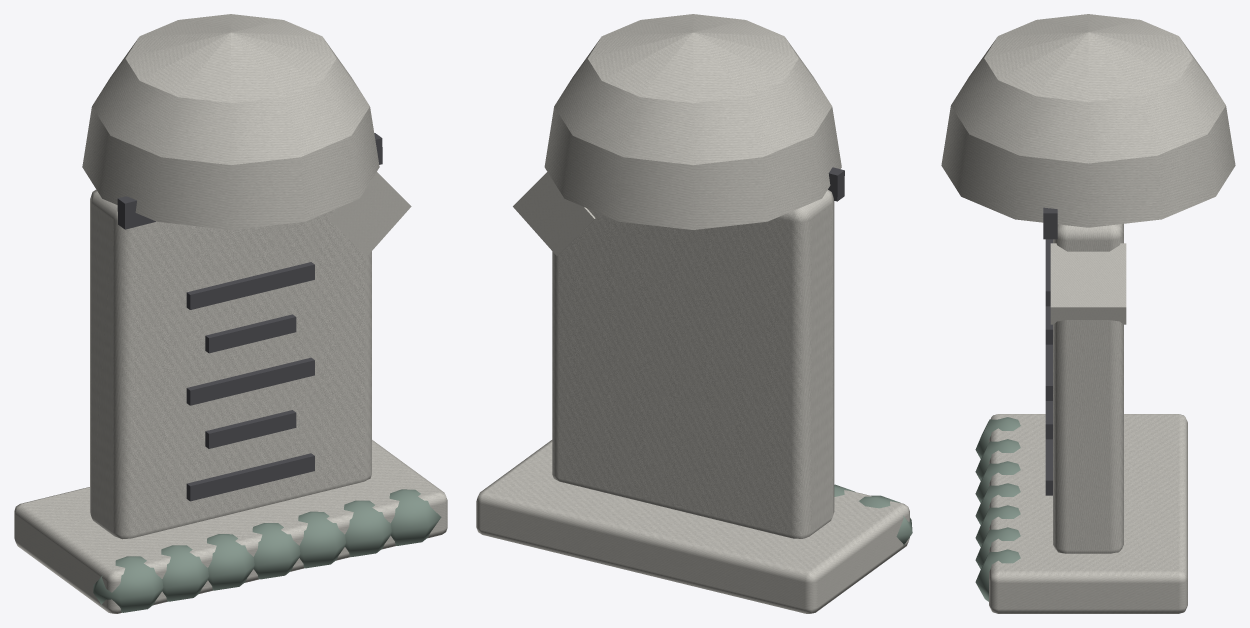
Rendered from tombstone-arch.glb.
The picture shows the model from 3 angles, left to right: view 1: azimuth 30°, elevation 25°; view 2: azimuth 150°, elevation 25°; view 3: azimuth 270°, elevation 25°; orthographic projection.
Parts seen in each view (by area): view 1: foam-tombstone-arch; view 2: foam-tombstone-arch; view 3: foam-tombstone-arch.
Boxes of the visible parts, bbox=[...] form: foam-tombstone-arch: bbox=[14, 14, 447, 613]; foam-tombstone-arch: bbox=[476, 14, 912, 613]; foam-tombstone-arch: bbox=[941, 14, 1235, 613].
Bounding box in the file's own units: 0.84 × 1.18 × 0.6201.
3 materials, 1 textured.
